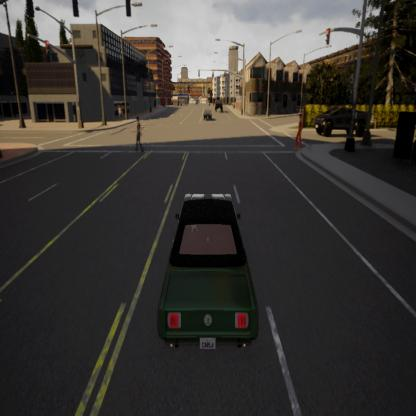Cars: (140, 179, 261, 368), (311, 94, 372, 146), (197, 101, 214, 128), (213, 93, 225, 118)
Pedestrian: (132, 104, 148, 162), (292, 102, 305, 160)
